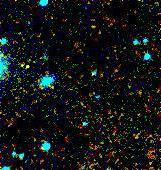star: (11, 49, 41, 79)
